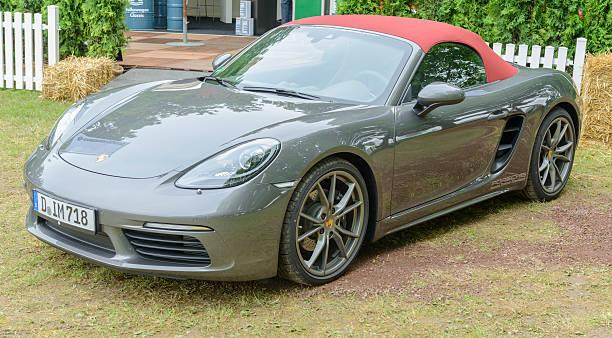porsche: (91, 149, 113, 168)
